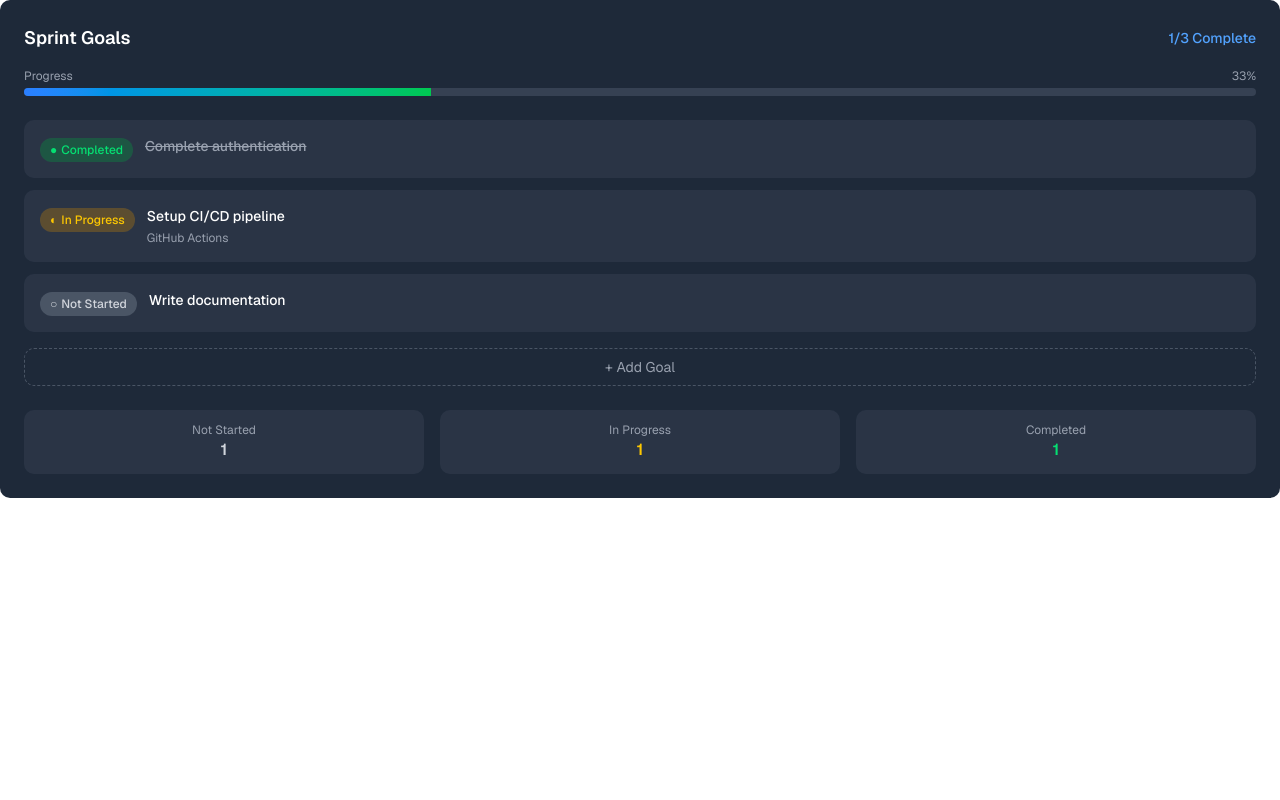
it: SprintGoals › opens add goal form when clicking add button
Click the button "+ Add Goal": click(640, 367) [24, 348, 1256, 386]
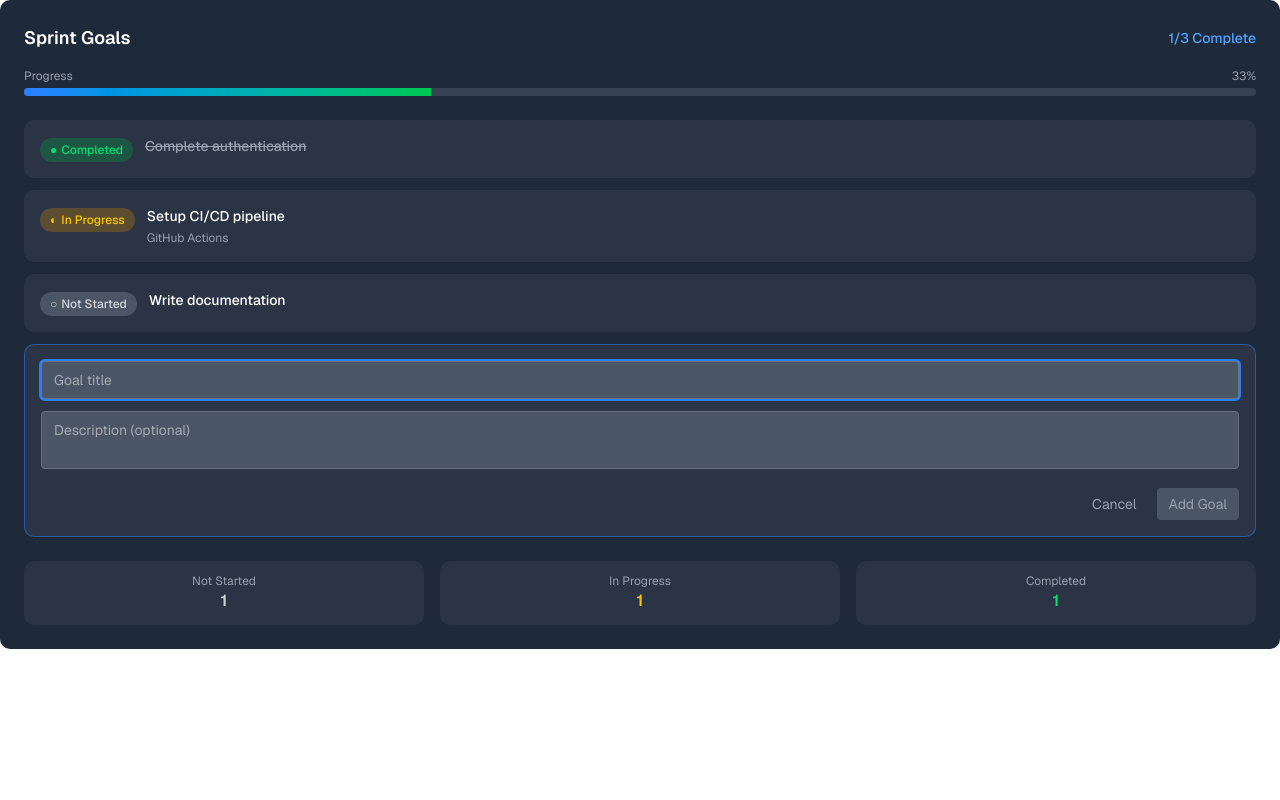
Result: the field with placeholder "Goal title" is shown at [41, 361, 1239, 399]
